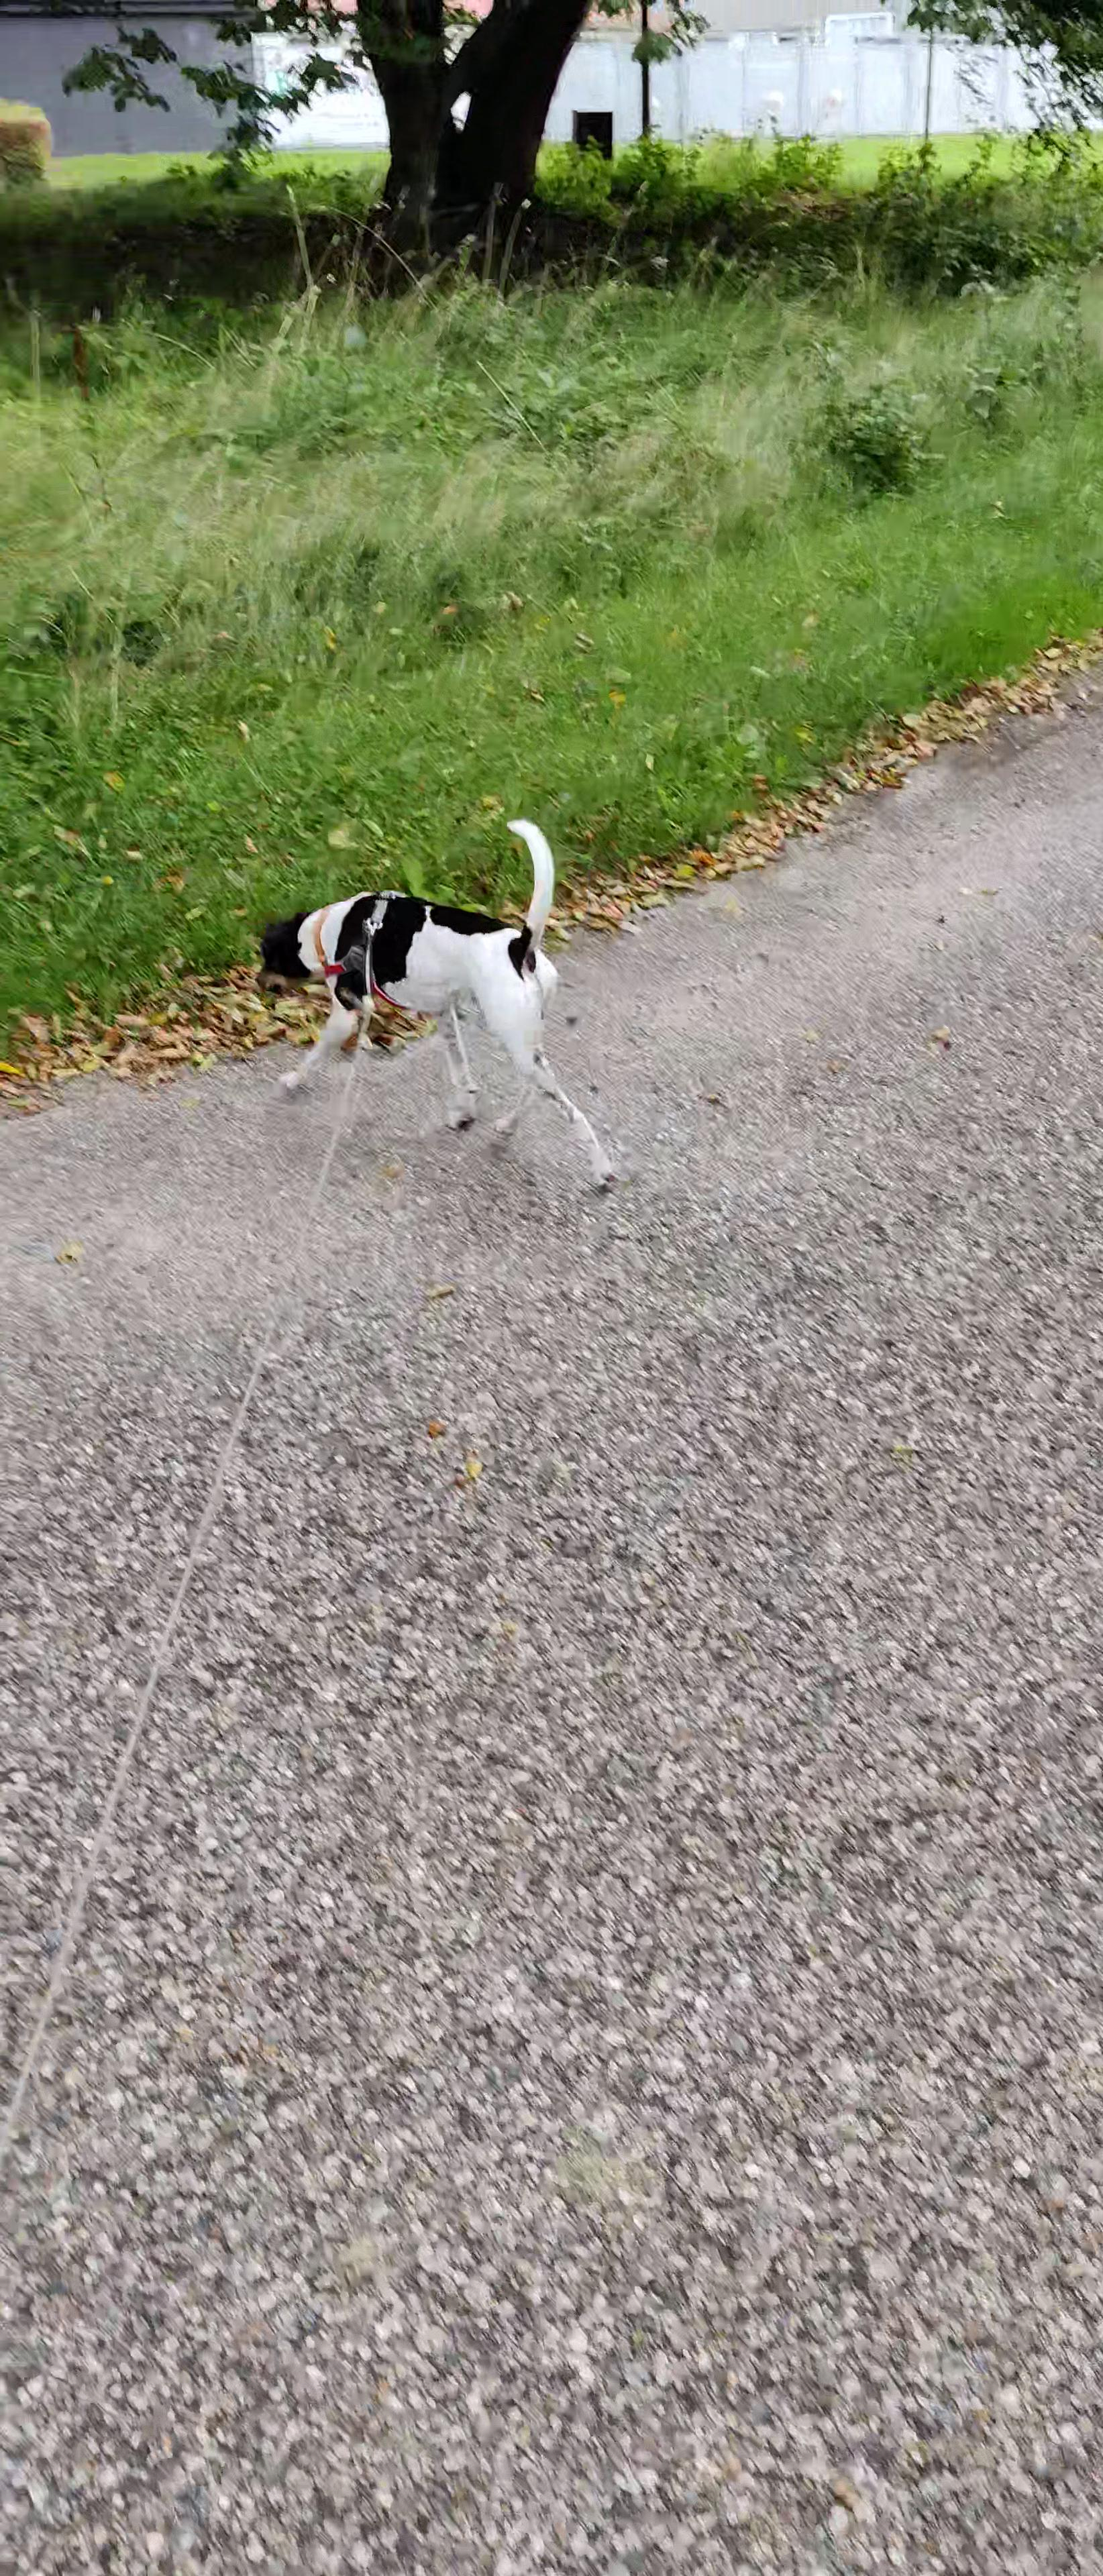Dog: (207, 787, 638, 1239)
